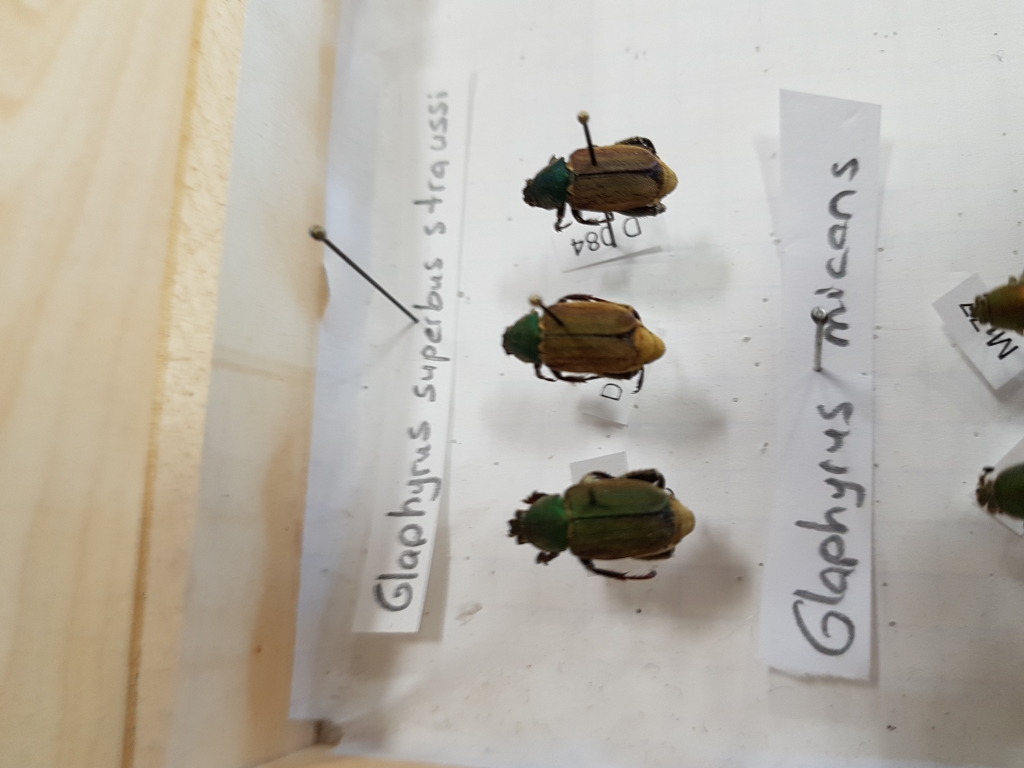Glaphyrus_superbus: (494, 459, 716, 596)
